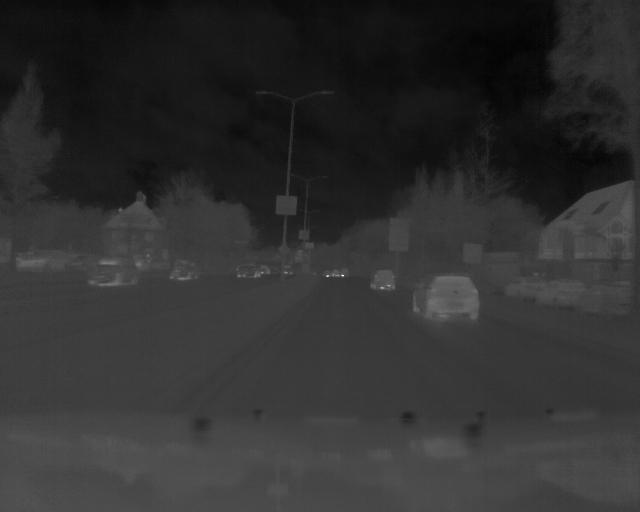car: (410, 271, 483, 324), (88, 254, 141, 288), (368, 267, 398, 293)
